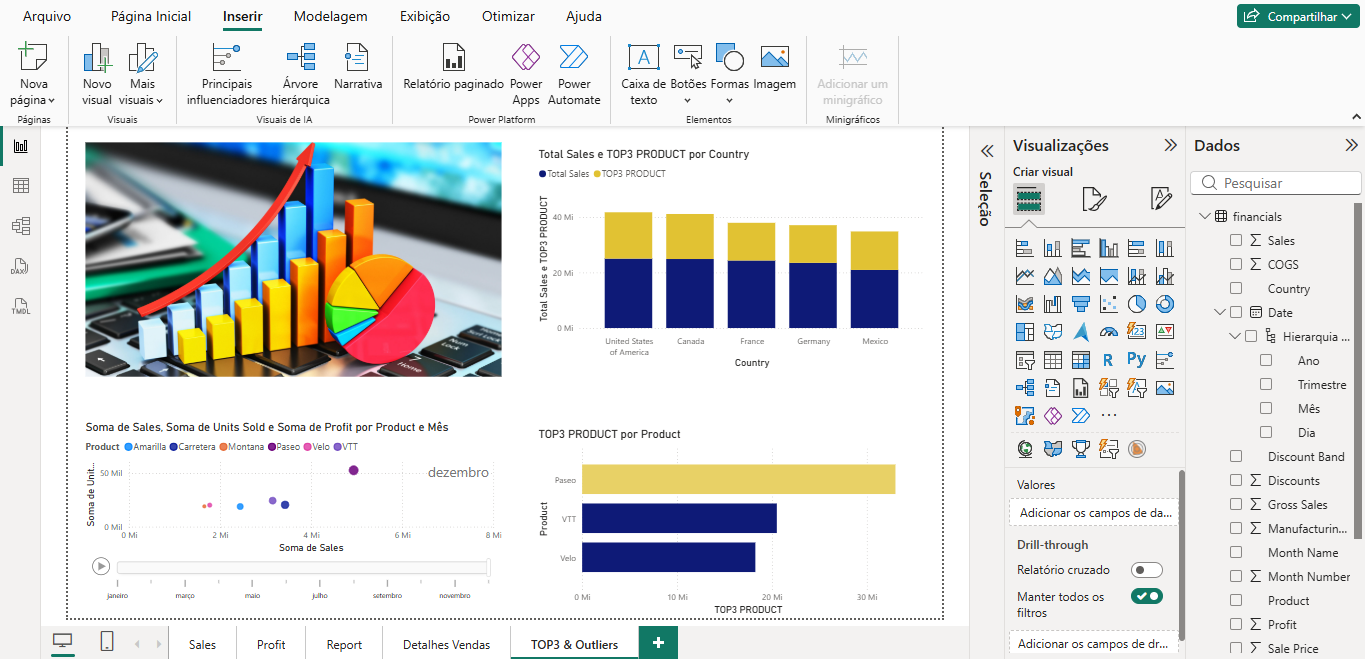

The page's visual inventory and layout, read from the dashboard file:
{"tool":"powerbi","page":{"name":"TOP3 & Outliers","canvas":[1280,720],"ordinal":4},"visuals":[{"type":"scatterChart","fields":{"Play":["financials.Date.Variation.Hierarquia de datas.Mês"],"Series":["financials.Product"],"Size":["Sum(financials.Profit)"],"X":["Sum(financials. Sales)"],"Y":["Sum(financials.Units Sold)"]},"box":[20.5,430.2,619,279.5],"z":0},{"type":"barChart","fields":{"Category":["financials.Product"],"Y":["financials.TOP3 PRODUCT"]},"box":[683.4,440.5,575.1,279.5],"z":1},{"type":"columnChart","fields":{"Category":["financials.Country"],"Y":["financials.Total Sales","financials.TOP3 PRODUCT"]},"box":[683.4,30.7,575.1,329.3],"z":2},{"type":"image","box":[20.5,2.9,619,384.9],"z":3}]}

Visuals, with their boxes on the page's 1280x720 design canvas (x1, y1, x2, y2). These are canvas units, not pixel positions in the 1365x659 screenshot, which may show the page scaled, cropped or inside an application window:
scatterChart - financials.Date.Variation.Hierarquia de datas.Mês x financials.Product: detection(20, 430, 640, 710)
barChart - financials.Product x financials.TOP3 PRODUCT: detection(683, 440, 1258, 720)
columnChart - financials.Country x financials.Total Sales: detection(683, 31, 1258, 360)
image: detection(20, 3, 640, 388)
